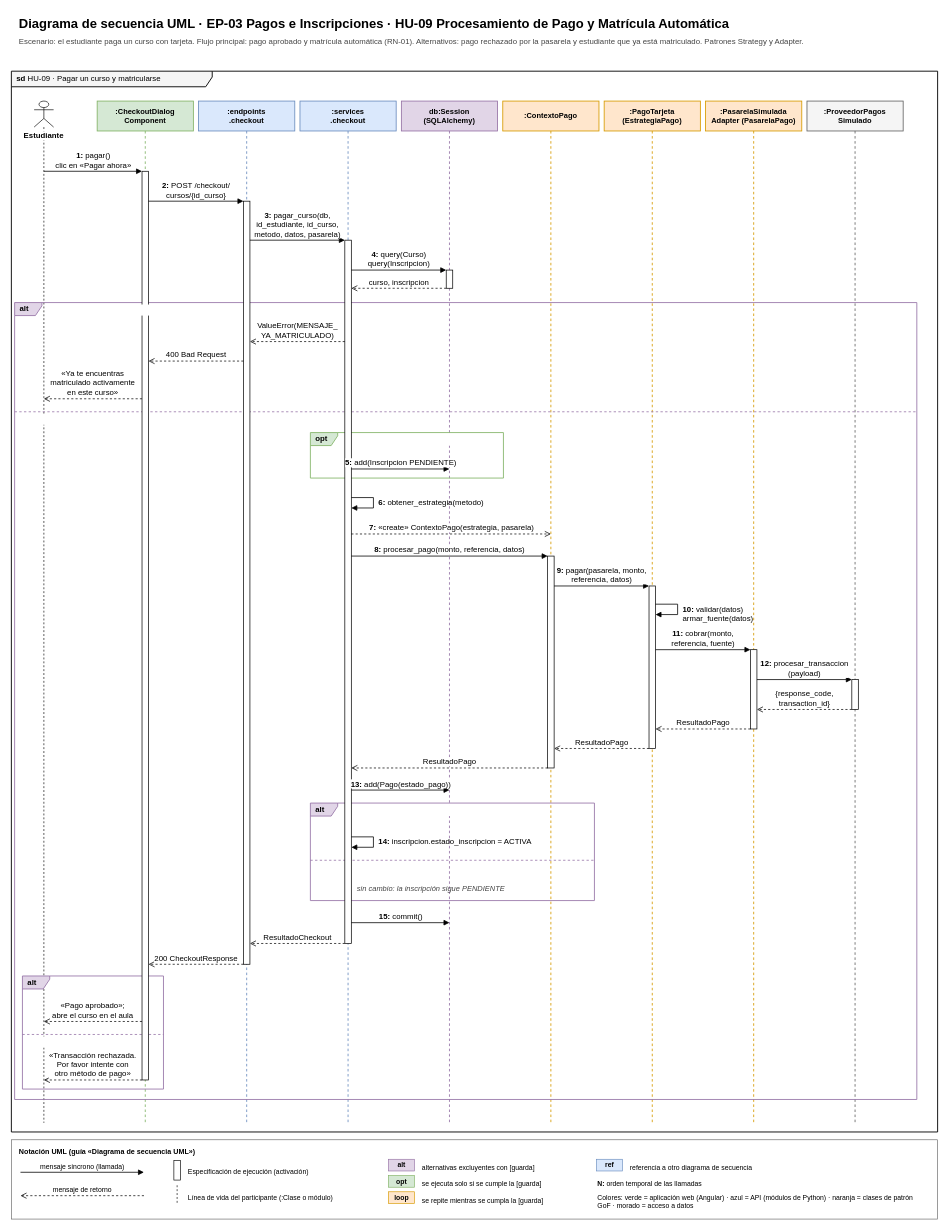
Some shapes in this 950 by 1230 pixel diagram are drawn without their labels. Here are the shapes that lost their labels. From the top down, the centre of each, then its label:
At (x=116, y=309): "[la inscripción ya está ACTIVA]".
At (x=75, y=418): "[puede comprar el curso]".
At (x=414, y=439): "[no tenía inscripción]".
At (x=410, y=810): "[resultado.aprobado]".
At (x=401, y=867): "[pago rechazado]".
At (x=78, y=983): "[aprobado]".
At (x=54, y=1041): "[rechazado]".
